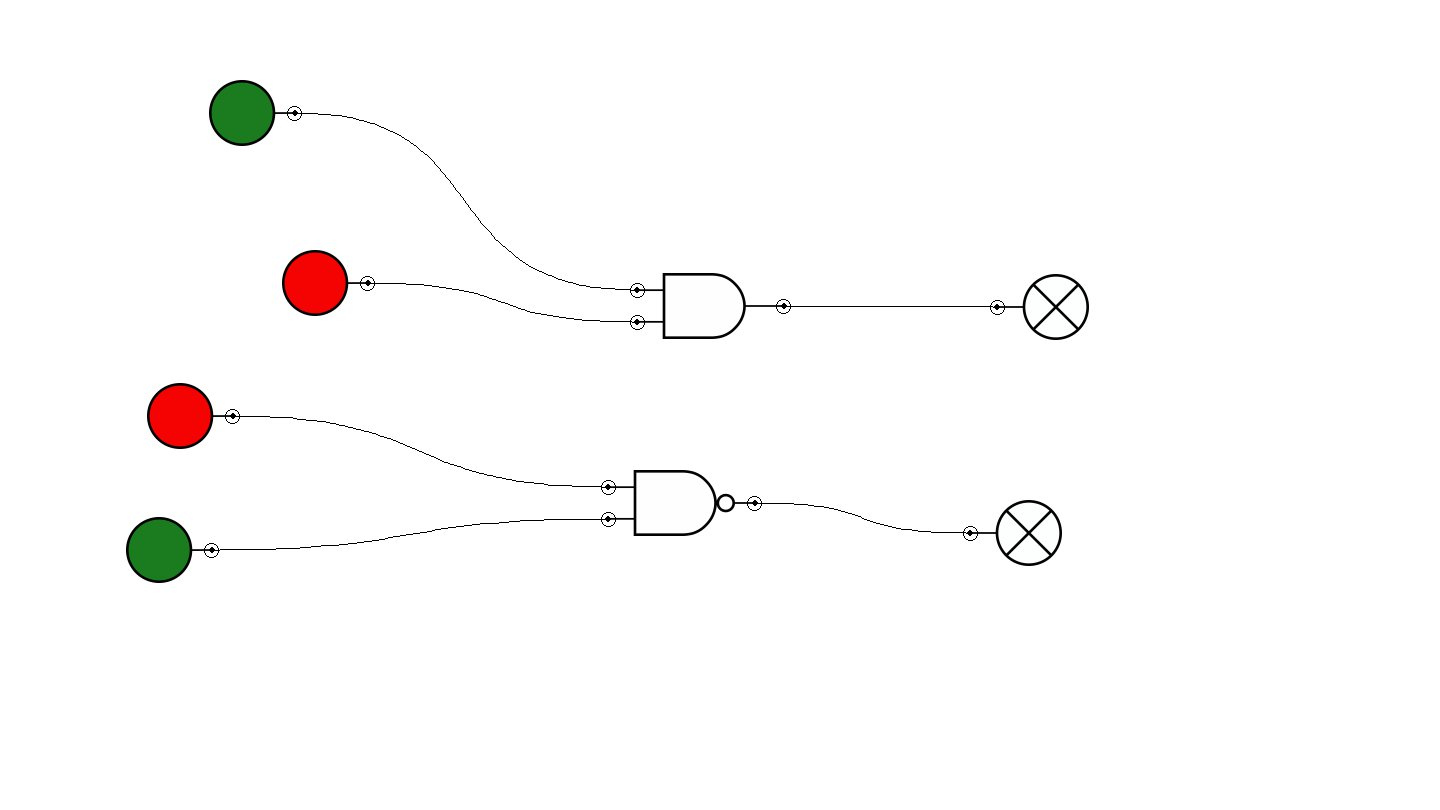and: (630, 273, 791, 339)
bulb: (963, 500, 1062, 566), (990, 274, 1089, 340)
nand: (601, 470, 762, 536)
switch_False: (147, 383, 240, 449), (282, 250, 375, 316)
switch_True: (209, 80, 302, 146), (126, 517, 219, 583)
